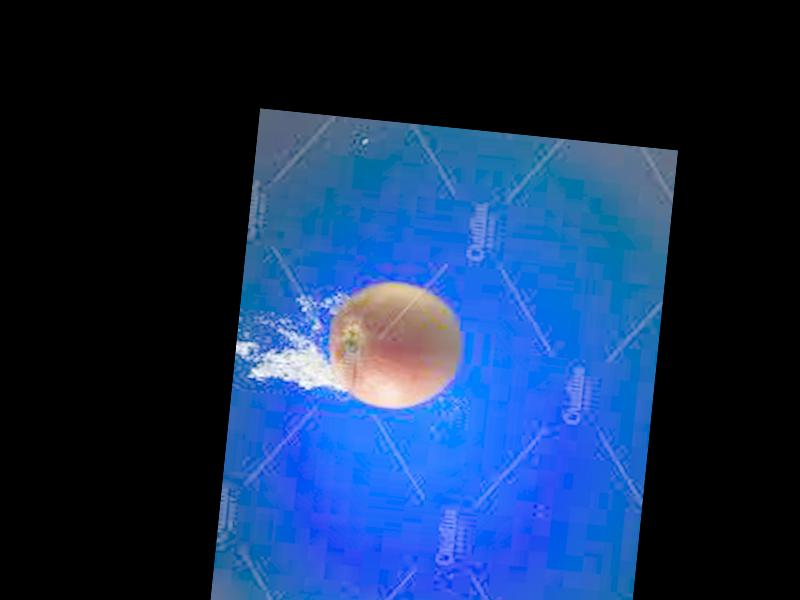Tomato: (323, 275, 463, 413)
